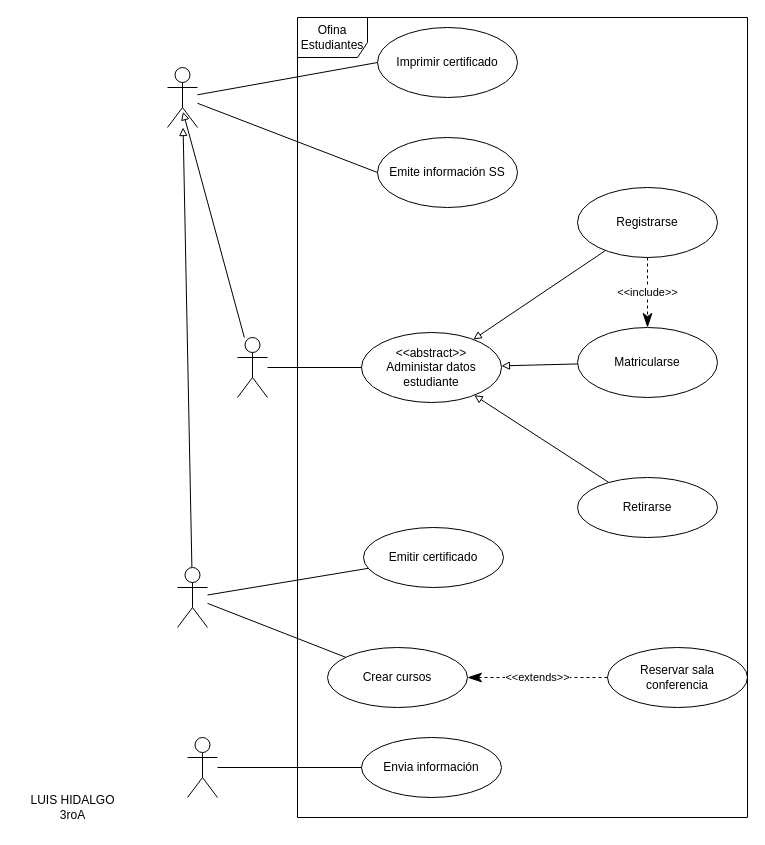
Some shapes in this 765 by 845 pixel diagram are drawn without their labels. The shapes that lost their labels are listed below. From the top down, each one's centre as x and y in pixels, then its label:
At (x=182, y=97): "Empleado".
At (x=252, y=367): "Empleado Servicio".
At (x=192, y=597): "Empleado Administrador".
At (x=202, y=767): "Profesor".
